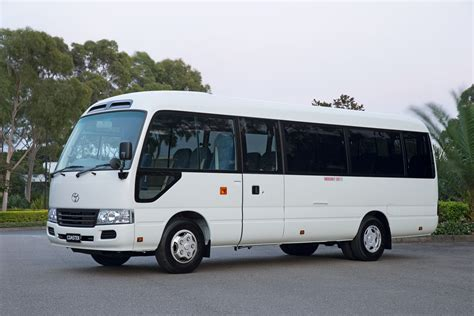bus: (48, 94, 438, 270)
